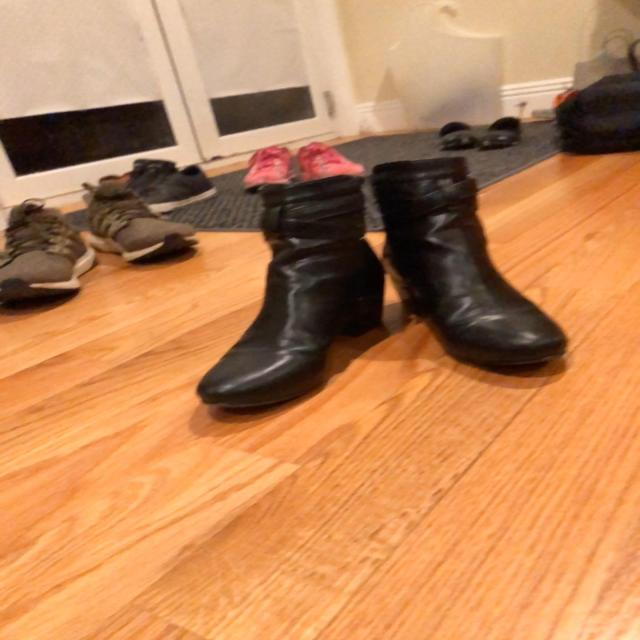shoe: (371, 154, 565, 361), (201, 183, 380, 403)
